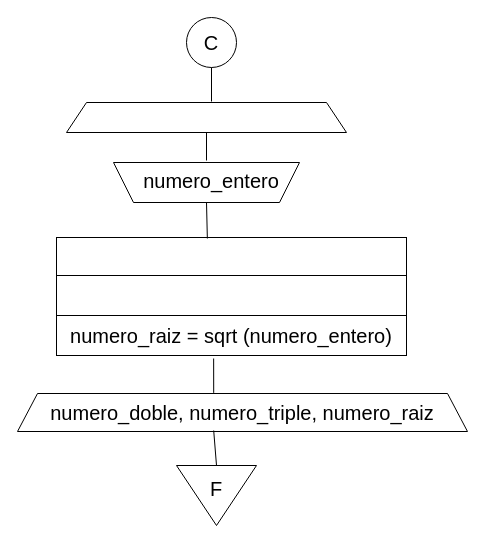
Image size: 485x543. Some labels were removed from this diagram. Each missing label, with the centre of its shape:
"Ingrese un numero entero:": pixel 206 117
numero_doble = 2 * numero_entero: pixel 231 257
numero_triple = 3 * numero_entero: pixel 231 295
